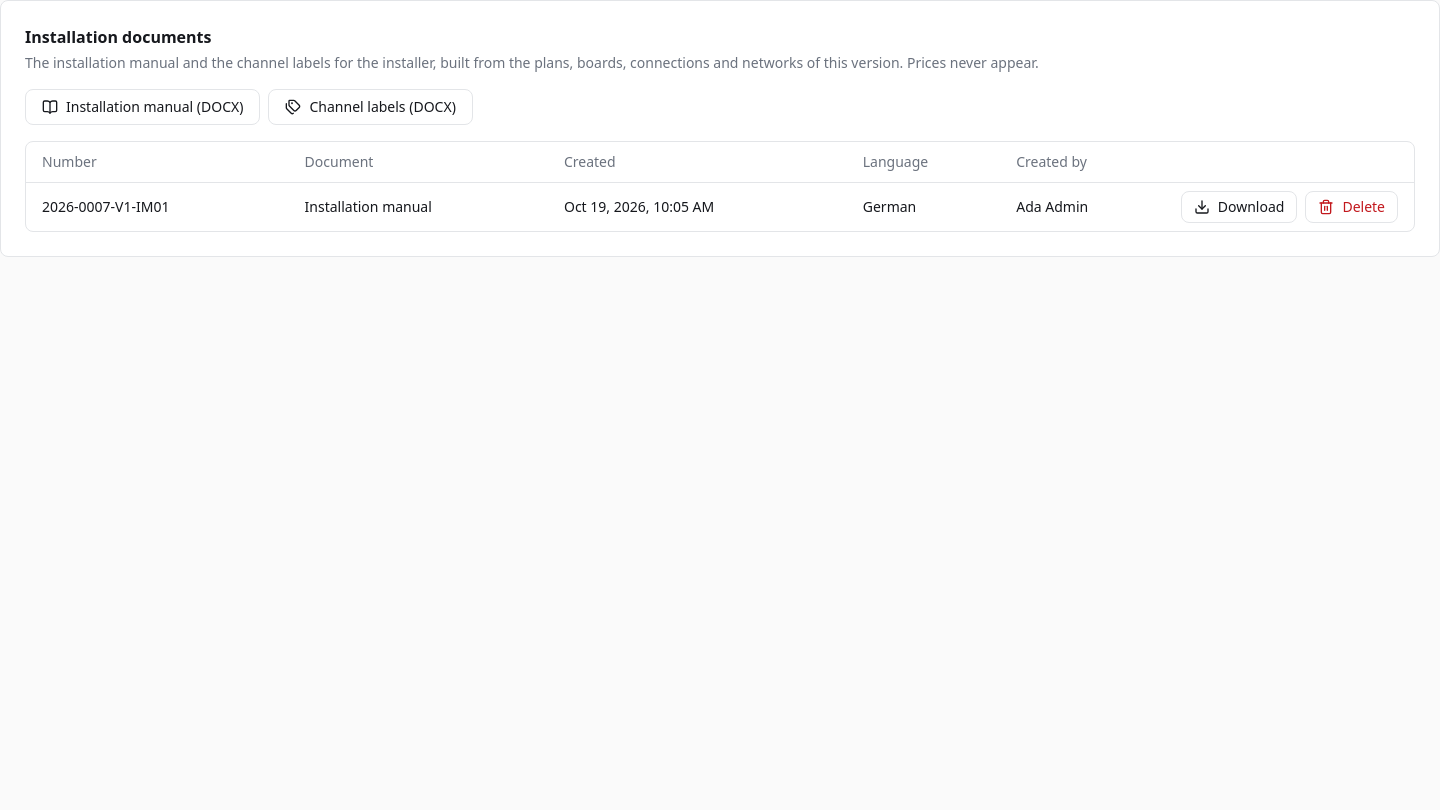
it: InstallationDocumentsSection › deletes a document after confirming
The image size is (1440, 810).
Click the button "Delete". click: (1352, 207)
box: [1305,191,1398,223]
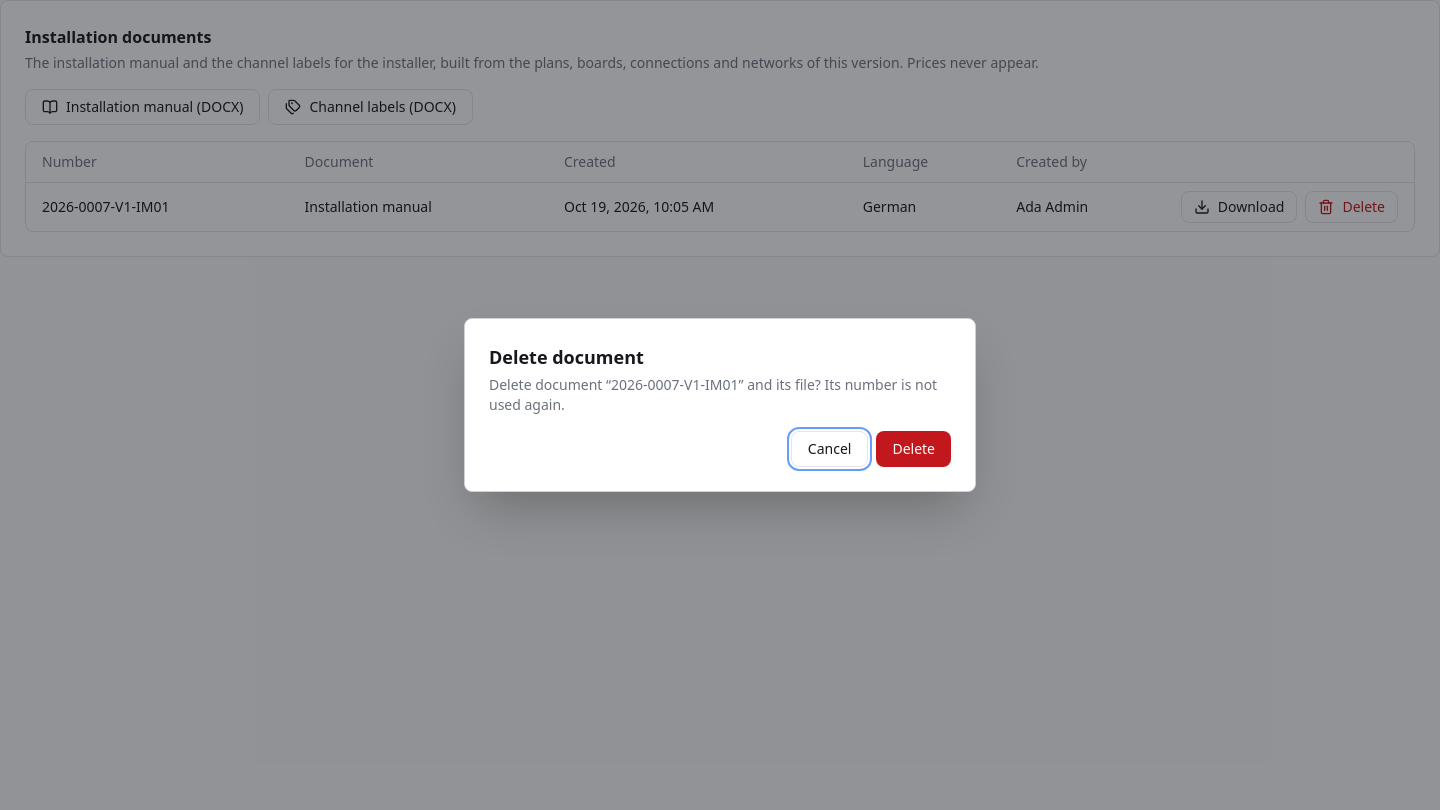
Expected: the dialog "Delete document" shows "2026-0007-V1-IM01", [489,375,937,414]
Click the button "Delete". click: (914, 449)
box: [876,431,951,467]
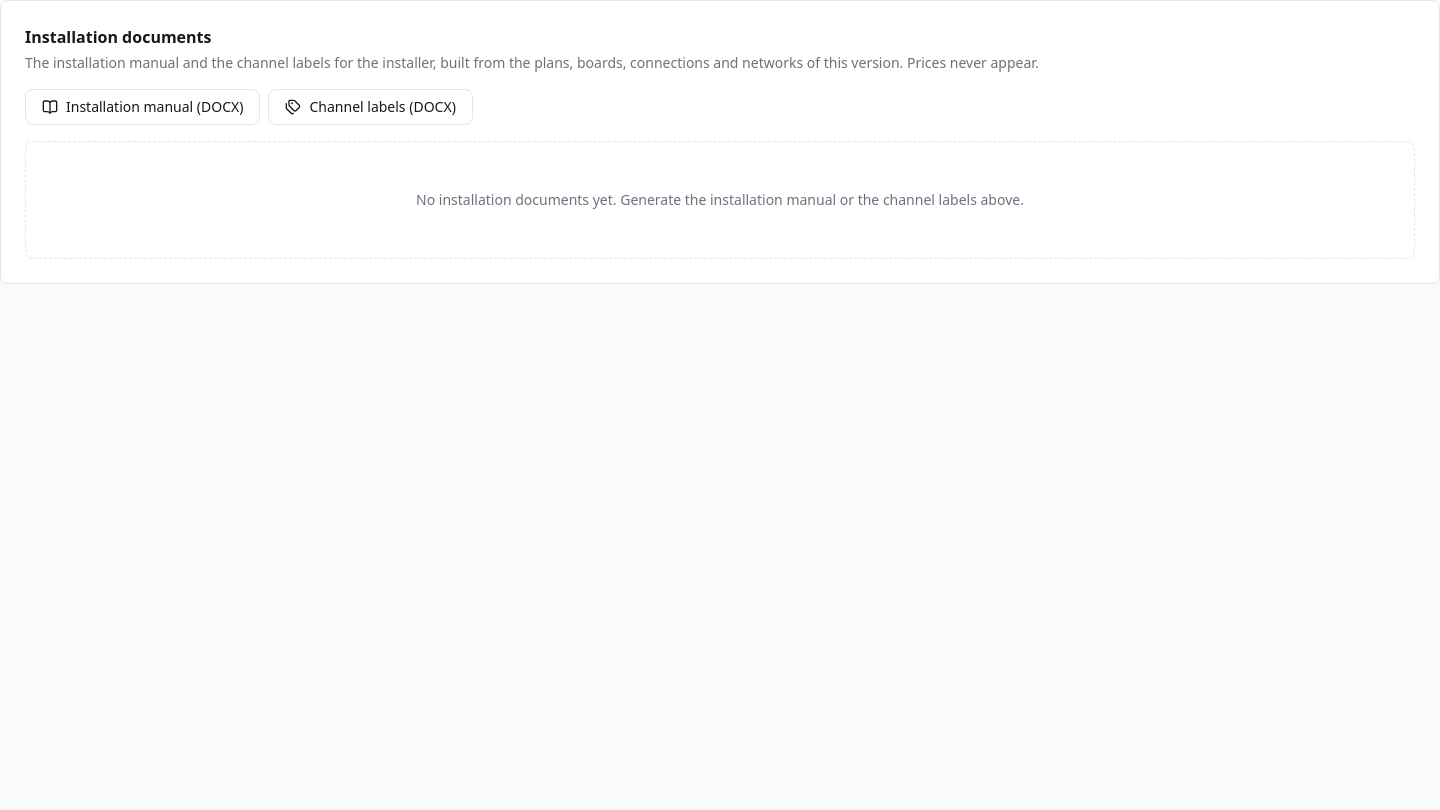
Expected: the text "No installation documents yet. Generate" is shown, [416,190,1024,209]
